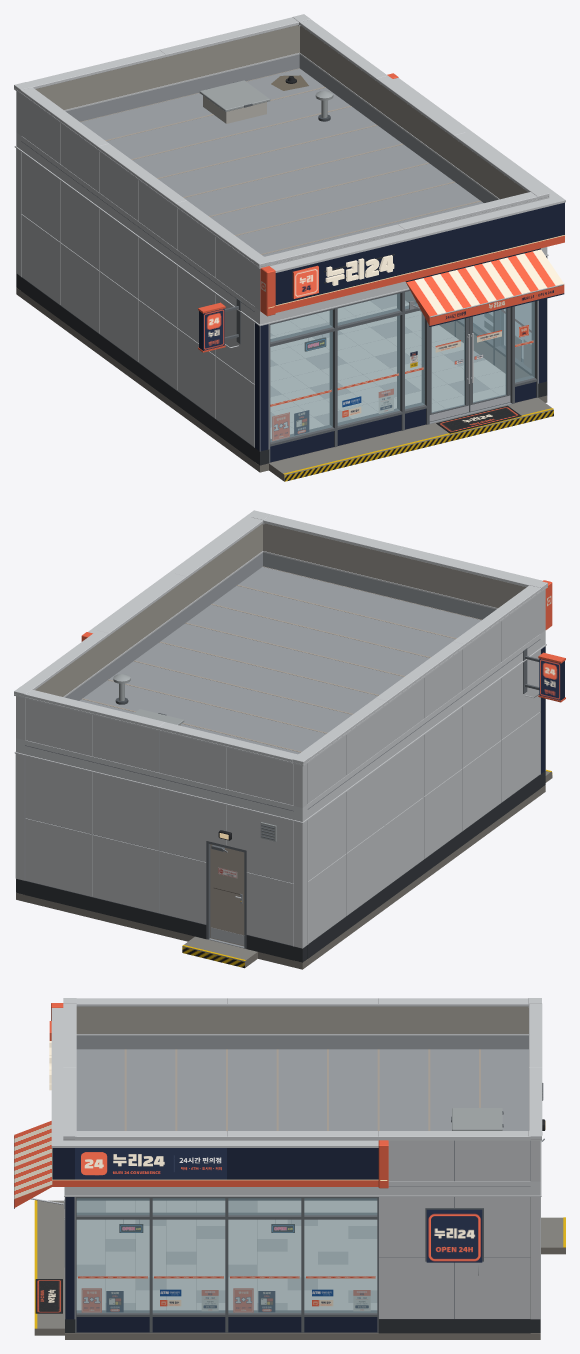
Rendered from SC_Bld_Store_Prefab_Store_Corner.gltf.
The picture shows the model from 3 angles, top to bottom: view 1: azimuth 30°, elevation 25°; view 2: azimuth 150°, elevation 25°; view 3: azimuth 270°, elevation 25°; orthographic projection. The views are drawn at different scales.
Visible parts, largest first — view 1: SC_Bld_Store_Prefab_Store_Corner; view 2: SC_Bld_Store_Prefab_Store_Corner; view 3: SC_Bld_Store_Prefab_Store_Corner.
Boxes of the visible parts, <box> form: SC_Bld_Store_Prefab_Store_Corner: <box>14,14,565,481</box>; SC_Bld_Store_Prefab_Store_Corner: <box>14,510,565,969</box>; SC_Bld_Store_Prefab_Store_Corner: <box>14,998,565,1339</box>.
Size of the model in its own units: 7.54 by 4.46 by 10.91.
Materials: 5 (5 with a texture image).
